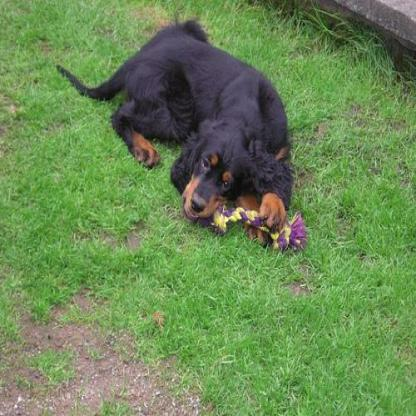Gordon_setter: (54, 21, 292, 236)
